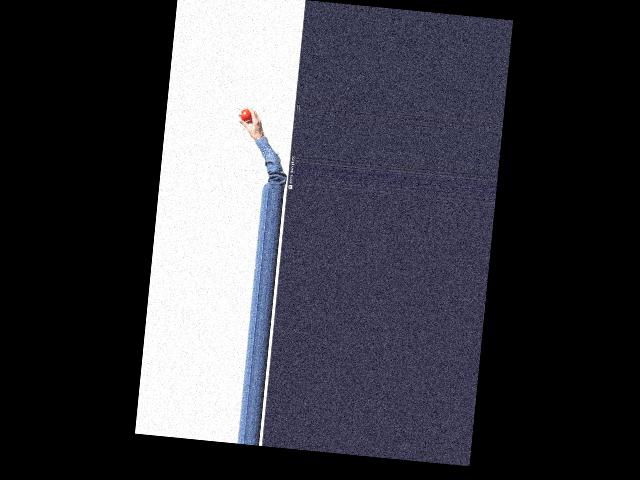tomato: (240, 108, 251, 121)
